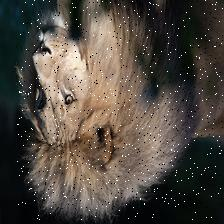Lion: (17, 0, 224, 220)
